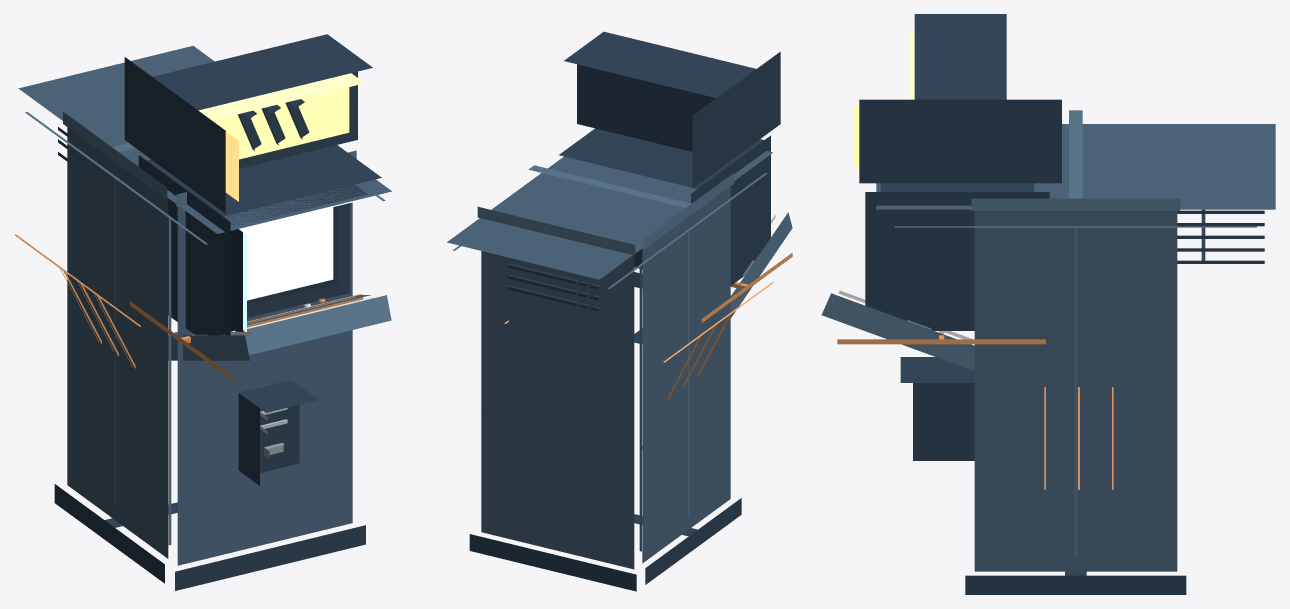
Rendered from model-cabinet-01.glb.
The picture shows the model from 3 angles, left to right: view 1: azimuth 30°, elevation 25°; view 2: azimuth 150°, elevation 25°; view 3: azimuth 270°, elevation 25°; orthographic projection. The views are drawn at different scales.
Parts seen in each view (by area): view 1: 机身主体, 灯箱外壳, 屏幕边框, 灯箱灯面, 屏幕辉光, 底座底墩, 操作台, 投币门, 屏幕玻璃, 侧板左, 顶部压条, 正面框条; view 2: 机身主体, 灯箱外壳, 屏幕边框, 底座底墩, 顶部压条, 侧板左, 操作台, 散热百叶4, 散热百叶5, 散热百叶3, 正面框条; view 3: 机身主体, 灯箱外壳, 屏幕边框, 投币门, 底座底墩, 顶部压条, 操作台, 侧板右, 正面框条, 灯箱灯面.
Boxes of the visible parts, x1=… form: 机身主体: x1=18, y1=46, x2=391, y2=565; 灯箱外壳: x1=124, y1=34, x2=372, y2=213; 屏幕边框: x1=138, y1=145, x2=381, y2=335; 灯箱灯面: x1=198, y1=73, x2=364, y2=201; 屏幕辉光: x1=239, y1=199, x2=359, y2=331; 底座底墩: x1=54, y1=484, x2=365, y2=590; 操作台: x1=168, y1=295, x2=391, y2=360; 投币门: x1=238, y1=380, x2=318, y2=485; 屏幕玻璃: x1=223, y1=184, x2=367, y2=331; 侧板左: x1=25, y1=112, x2=207, y2=545; 顶部压条: x1=63, y1=111, x2=356, y2=206; 正面框条: x1=130, y1=294, x2=363, y2=381; 机身主体: x1=447, y1=151, x2=772, y2=569; 灯箱外壳: x1=564, y1=31, x2=780, y2=188; 屏幕边框: x1=559, y1=128, x2=770, y2=285; 底座底墩: x1=469, y1=498, x2=741, y2=591; 顶部压条: x1=477, y1=165, x2=734, y2=255; 侧板左: x1=608, y1=173, x2=767, y2=551; 操作台: x1=634, y1=212, x2=792, y2=317; 散热百叶4: x1=507, y1=274, x2=604, y2=319; 散热百叶5: x1=507, y1=285, x2=604, y2=330; 散热百叶3: x1=507, y1=263, x2=604, y2=308; 正面框条: x1=701, y1=252, x2=792, y2=322; 机身主体: x1=876, y1=124, x2=1275, y2=571; 灯箱外壳: x1=859, y1=14, x2=1061, y2=183; 屏幕边框: x1=865, y1=183, x2=1049, y2=330; 投币门: x1=900, y1=357, x2=974, y2=460; 底座底墩: x1=965, y1=571, x2=1186, y2=594; 顶部压条: x1=971, y1=110, x2=1180, y2=210; 操作台: x1=821, y1=293, x2=974, y2=370; 侧板右: x1=894, y1=226, x2=1256, y2=556; 正面框条: x1=837, y1=331, x2=1045, y2=344; 灯箱灯面: x1=854, y1=30, x2=914, y2=166.
Size of the model in its own units: 0.9544 by 1.76 by 1.48.
